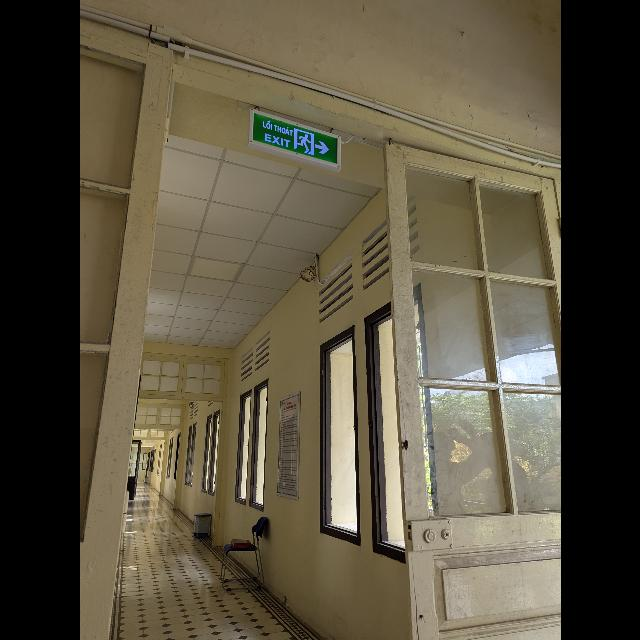exit: (247, 110, 341, 171)
